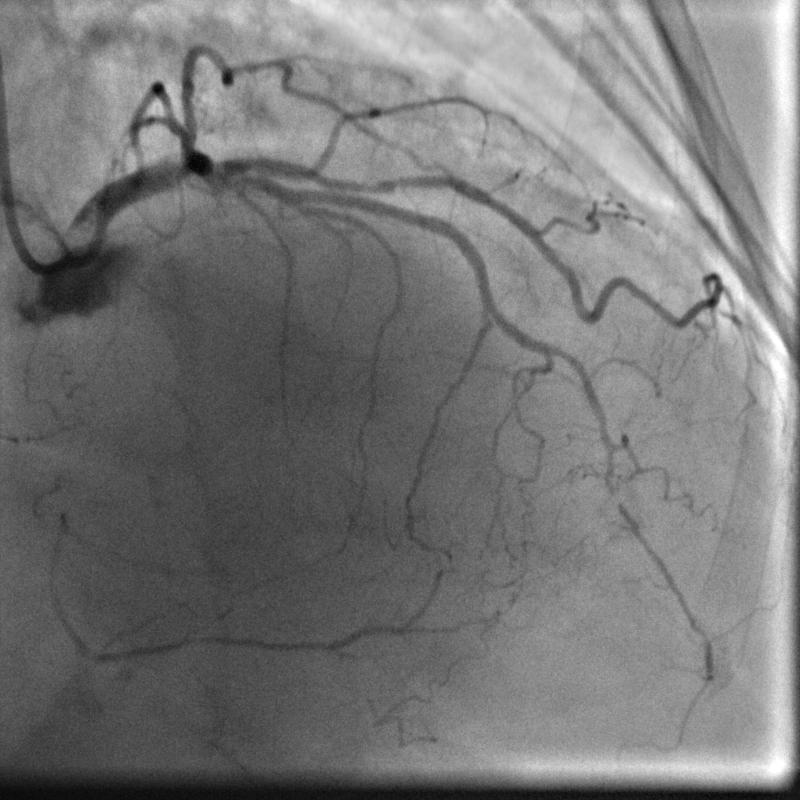Stenosis: (346, 168, 434, 200)
